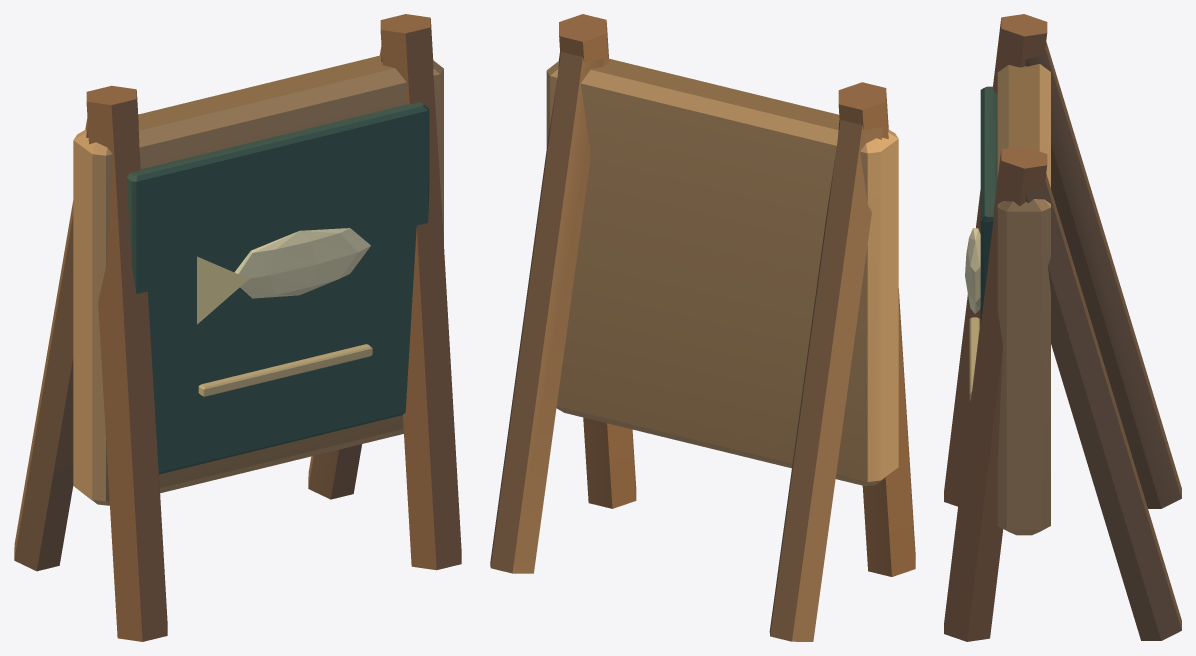
Rendered from broth_sign.glb.
3 views of the same model, side by side, from view 1: azimuth 30°, elevation 25°; view 2: azimuth 150°, elevation 25°; view 3: azimuth 270°, elevation 25° (orthographic). The views are drawn at different scales.
Parts seen in each view (by area): view 1: Hafentafel mit Kreidefisch; view 2: Hafentafel mit Kreidefisch; view 3: Hafentafel mit Kreidefisch.
Part boxes in pixels (left/top/right/bottom): Hafentafel mit Kreidefisch: left=14, top=14, right=461, bottom=641; Hafentafel mit Kreidefisch: left=490, top=14, right=915, bottom=641; Hafentafel mit Kreidefisch: left=944, top=14, right=1181, bottom=641.
Bounding box in the file's own units: 0.49 × 0.6956 × 0.3119.
